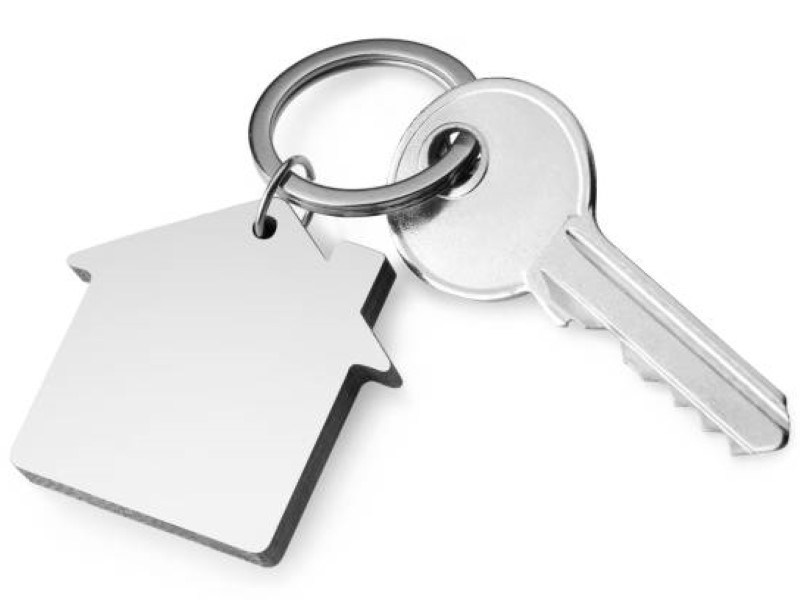key: (385, 69, 798, 455)
